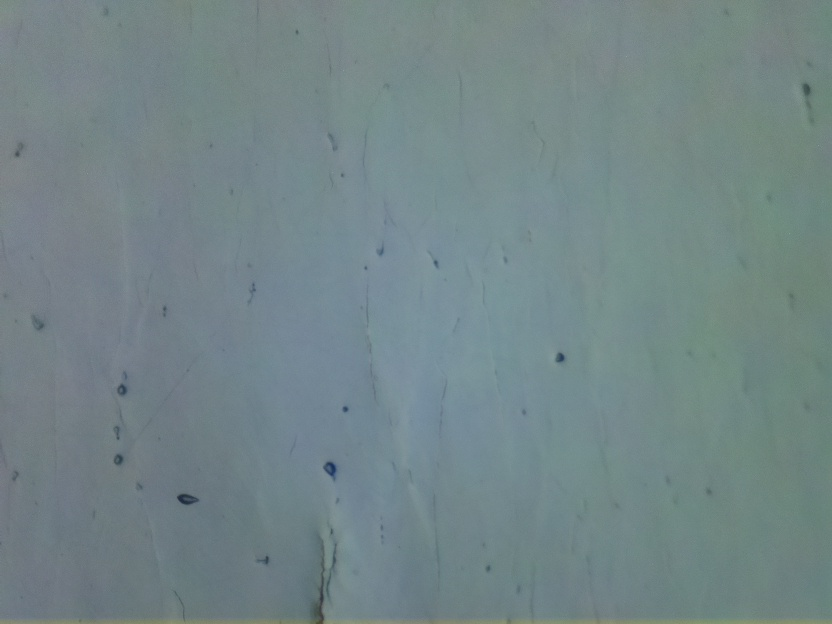crack: (313, 530, 339, 624)
